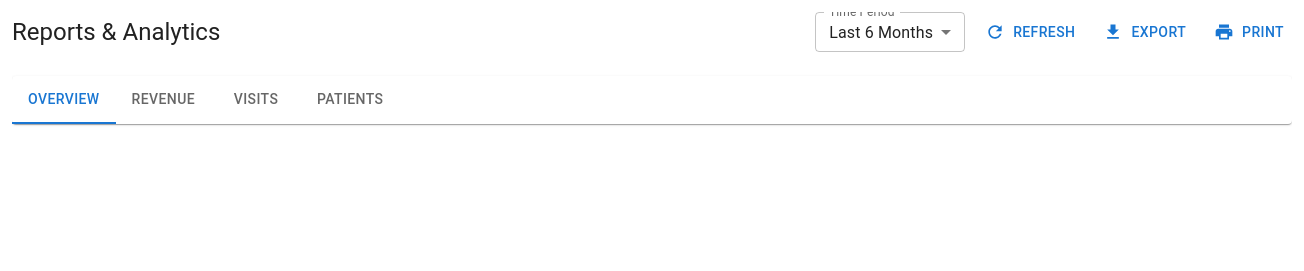
Test: Reports › Empty data handling › shows empty message when no revenue data
This screenshot has width=1304, height=271.
Expected: the heading "Reports & Analytics" is shown, [12,16,220,48]
# Switch to Revenue tab
Step 1. Click the tab "Revenue" → (163, 100), box [116,76,211,124]
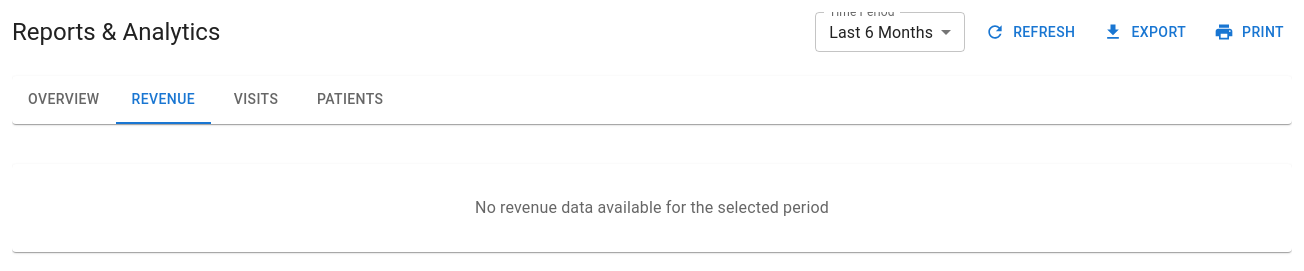
Expected: the text "No revenue data available for the selected period" is shown, [475,198,829,217]
